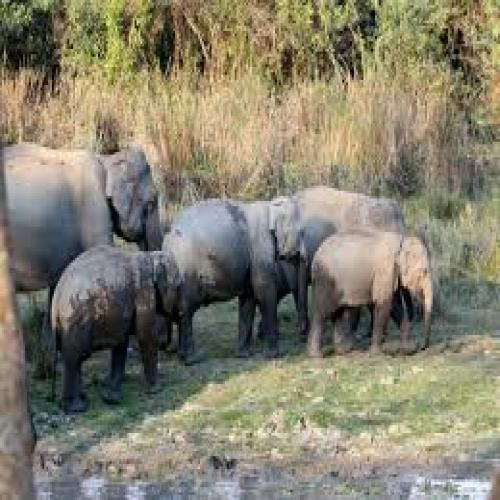asian_elephant-endangered: (0, 142, 166, 292), (49, 249, 197, 416), (166, 200, 312, 358), (310, 229, 434, 365), (290, 186, 406, 261)
